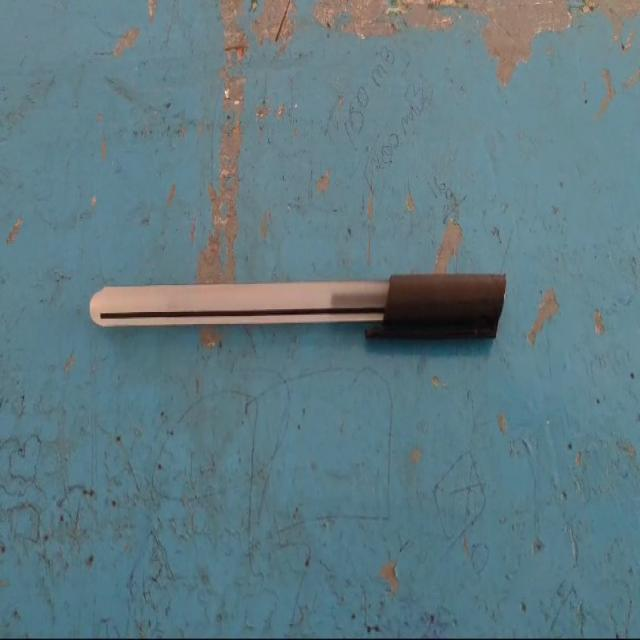pen: (69, 240, 523, 403)
